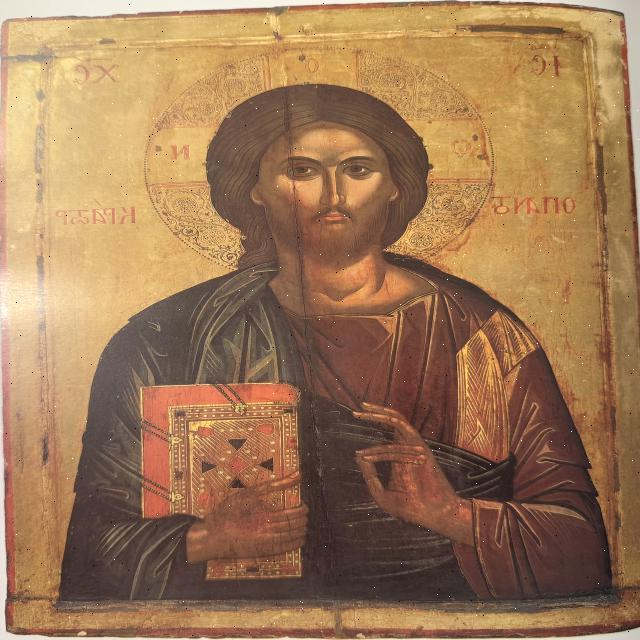aura: (143, 45, 497, 278)
book: (132, 379, 312, 588)
christ: (57, 37, 603, 610)
christ_hand: (334, 399, 486, 543)
